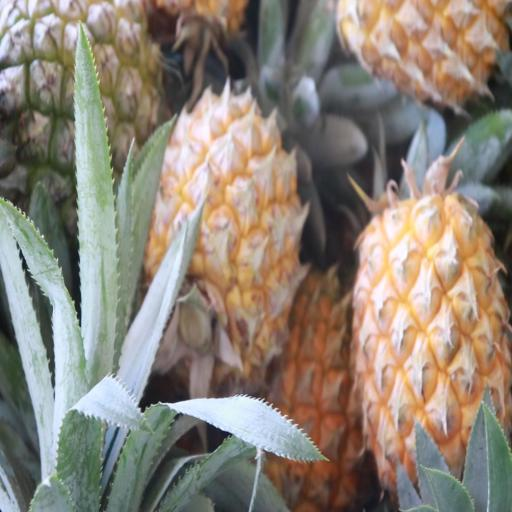Pineapple - v8 v1: (356, 201, 512, 511), (138, 90, 304, 374), (248, 273, 369, 508)
